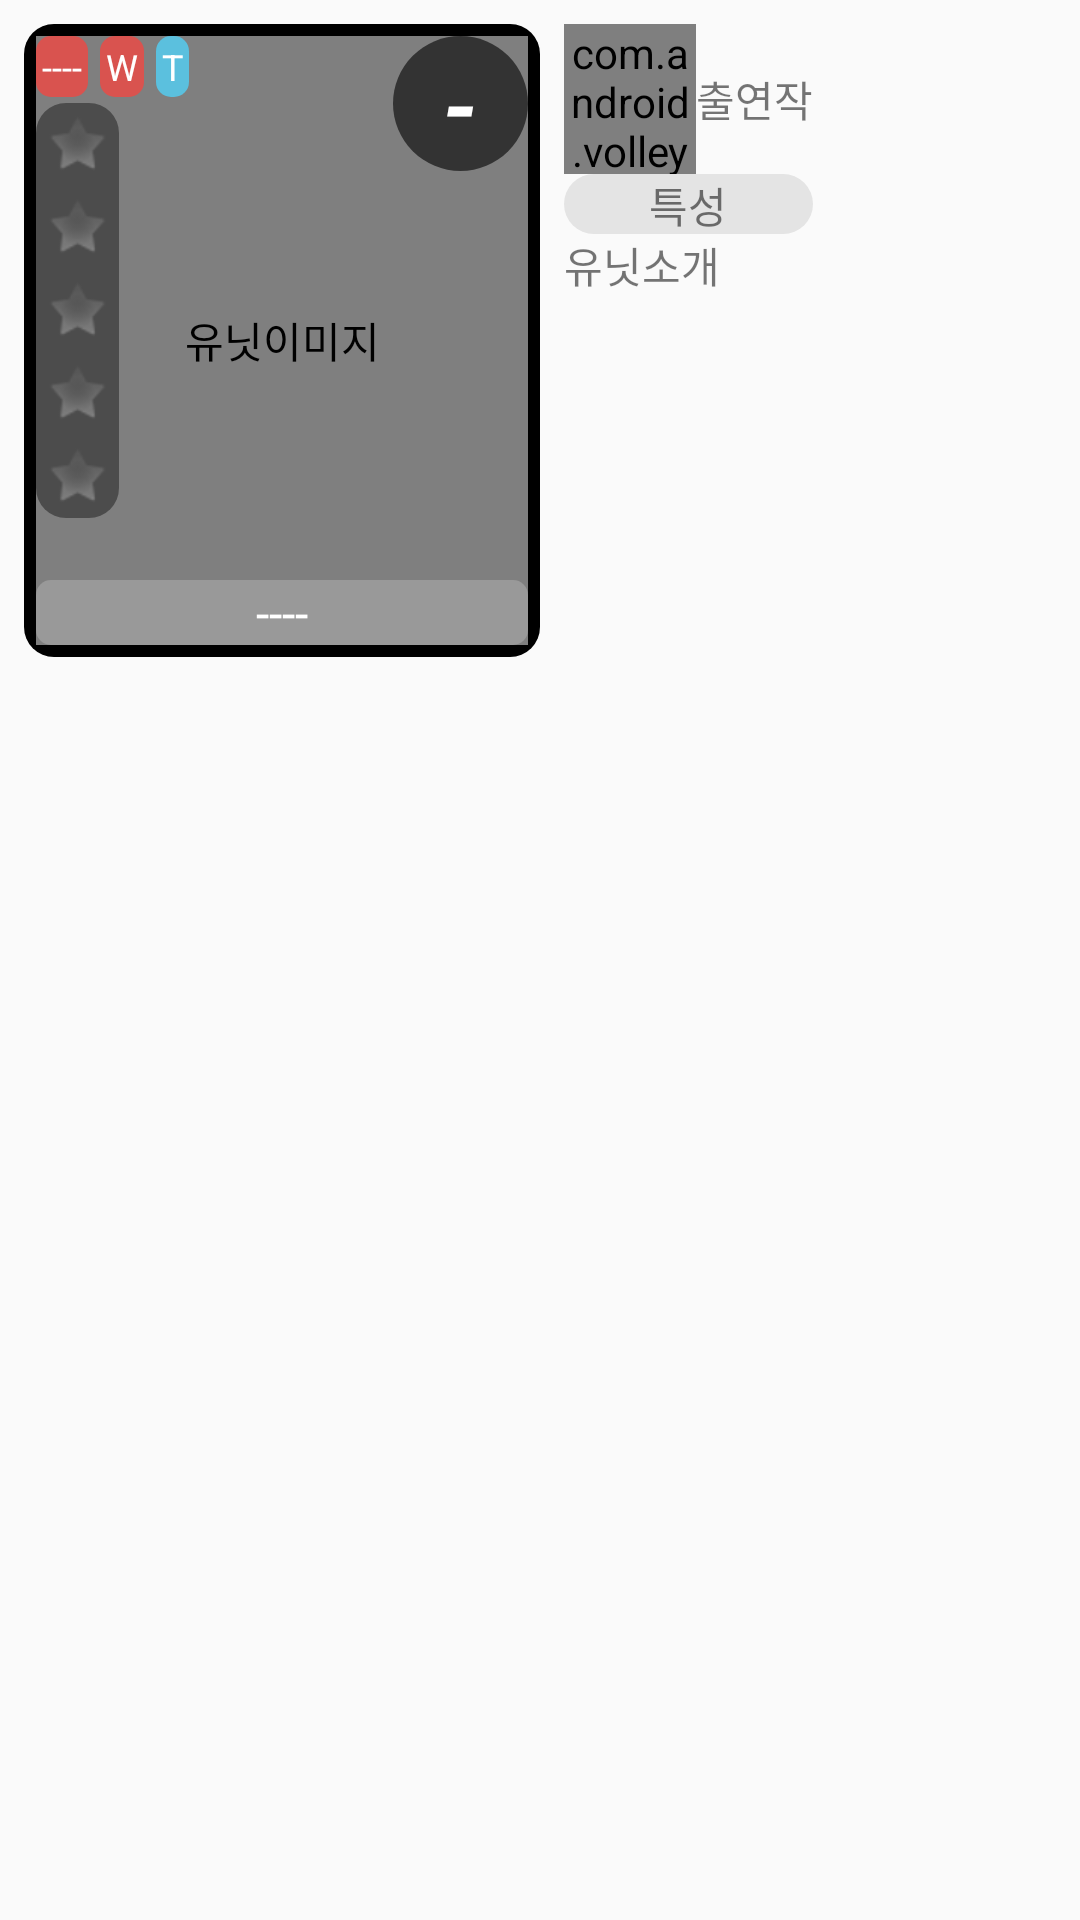

Where to tap for icons on this 1080px x 1920px app screen, as (x,y):
star off: (77,144), (77,235), (78,319), (77,402), (77,476)
